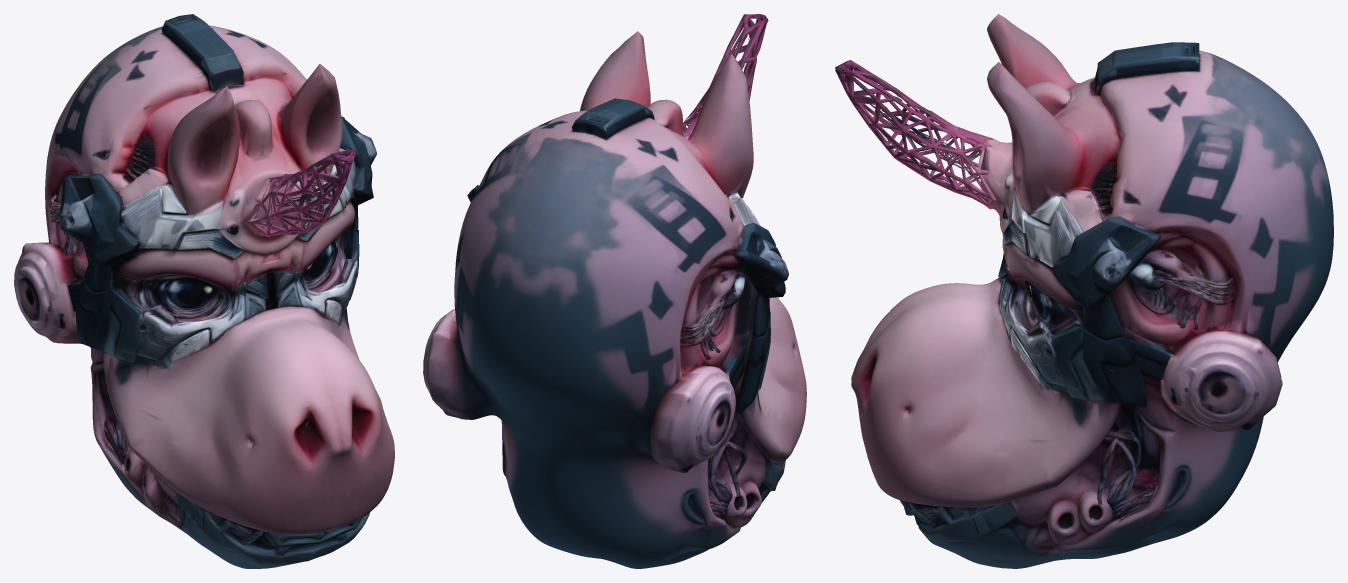
Rendered from unibrowserloadicorn.glb.
3 renders of one model, left to right at view 1: azimuth 30°, elevation 25°; view 2: azimuth 150°, elevation 25°; view 3: azimuth 270°, elevation 25°, orthographic. The views are drawn at different scales.
Visible parts, largest first — view 1: unibrowserloadicorn; view 2: unibrowserloadicorn; view 3: unibrowserloadicorn.
Boxes of the visible parts, left/top/right/bottom form: unibrowserloadicorn: left=14, top=14, right=394, bottom=568; unibrowserloadicorn: left=423, top=14, right=806, bottom=568; unibrowserloadicorn: left=835, top=14, right=1333, bottom=568.
Size of the model in its own units: 1.29 by 1.91 by 1.68.
Materials: 2 (2 with a texture image).
